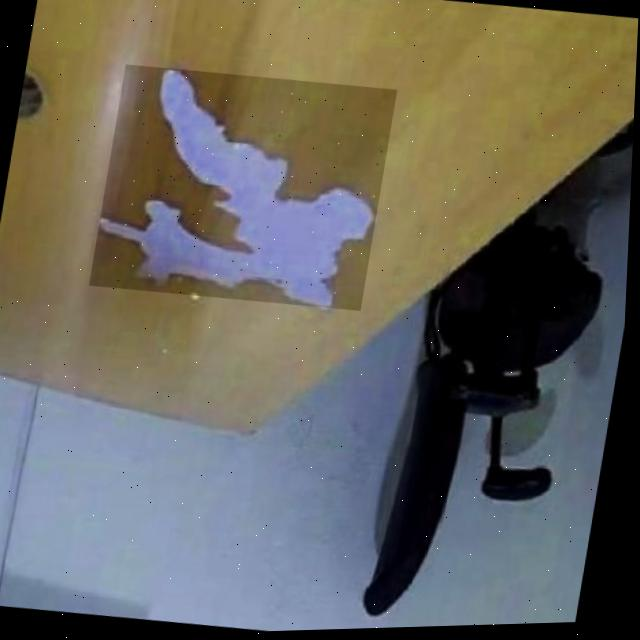spillage: (101, 70, 377, 309)
